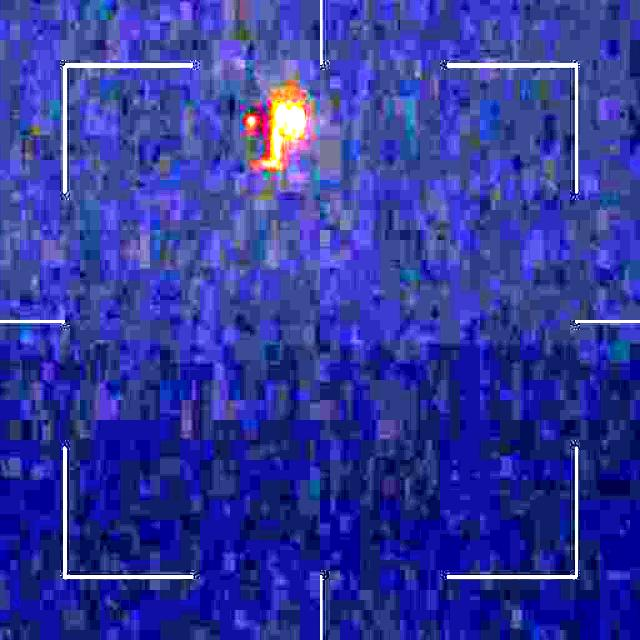bird: (228, 96, 304, 165)
